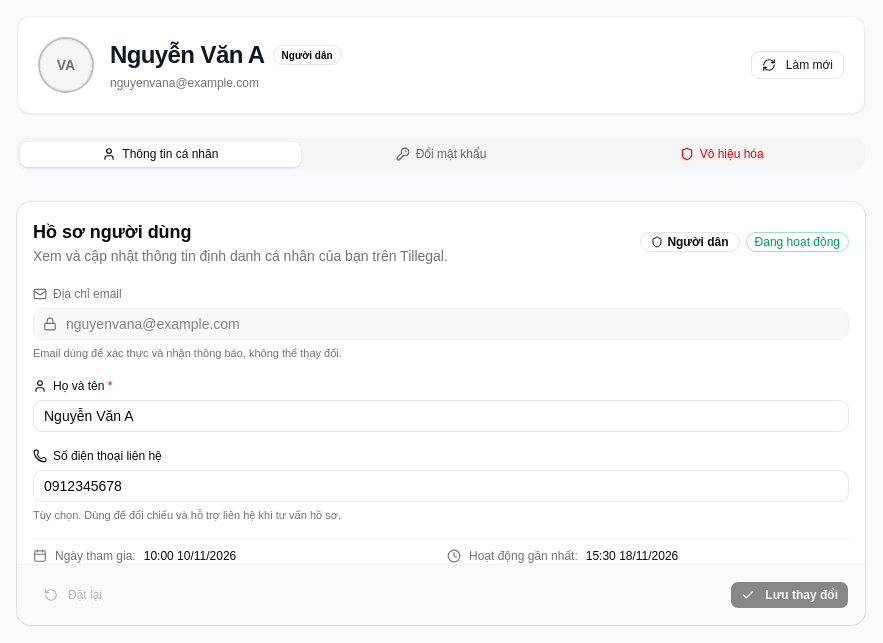
Test: User Feature › ProfilePage integration › renders profile page with tabs and tab switching
Check: the text "Thông tin cá nhân" is shown, box [122,146,218,162]
Check: the text "Đổi mật khẩu" is shown, box [416,146,486,162]
Switch to Đổi mật khẩu
Click the tab "Đổi mật khẩu" at point(441, 154), box [301,142,581,166]
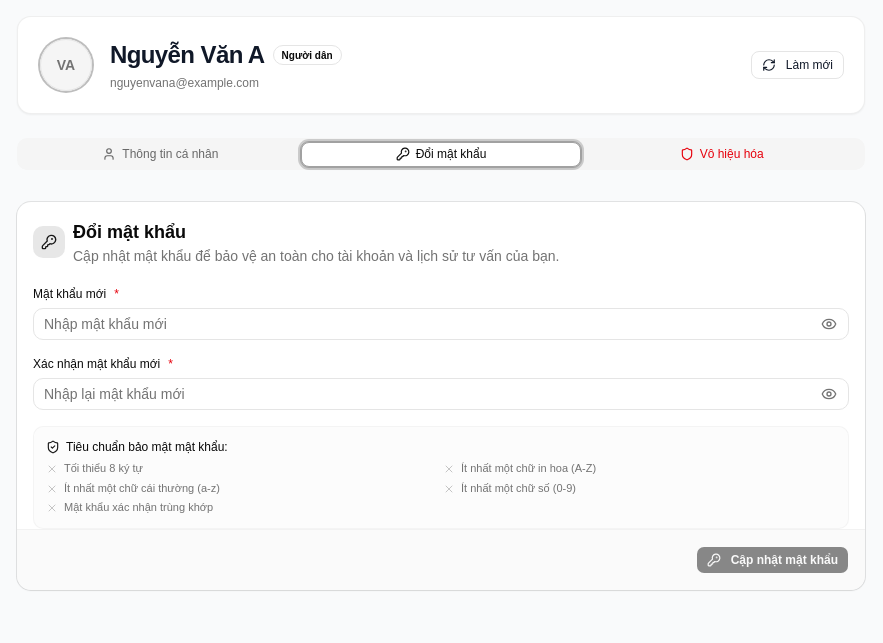
Check: the password field with placeholder "Nhập mật khẩu mới" is shown, box [33,308,849,340]
Switch to Vô hiệu hóa
Click the tab "Vô hiệu hóa" at point(722, 154), box [581,142,862,166]
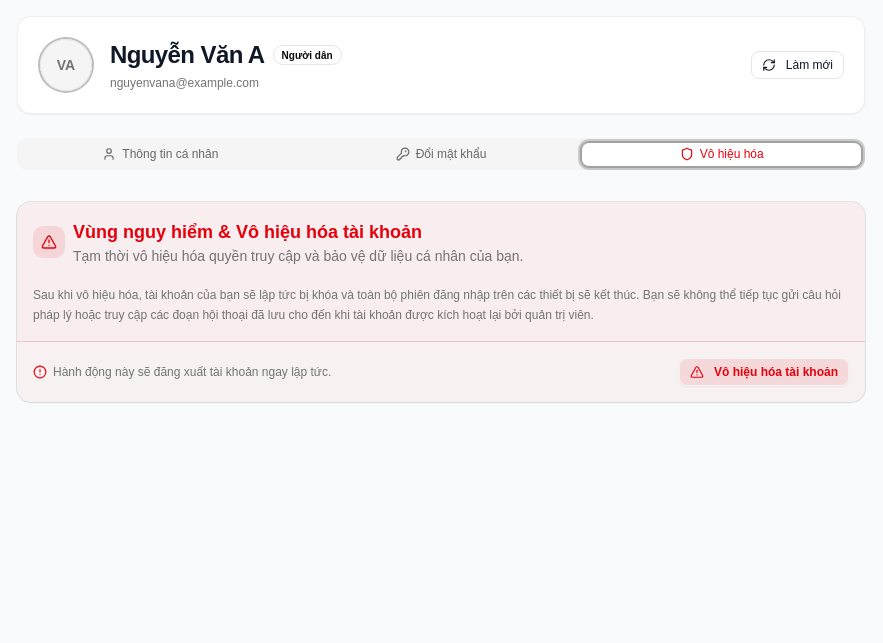
Check: the text "Vùng nguy hiểm & Vô hiệu hóa tài khoản" is shown, box [73,222,422,242]
